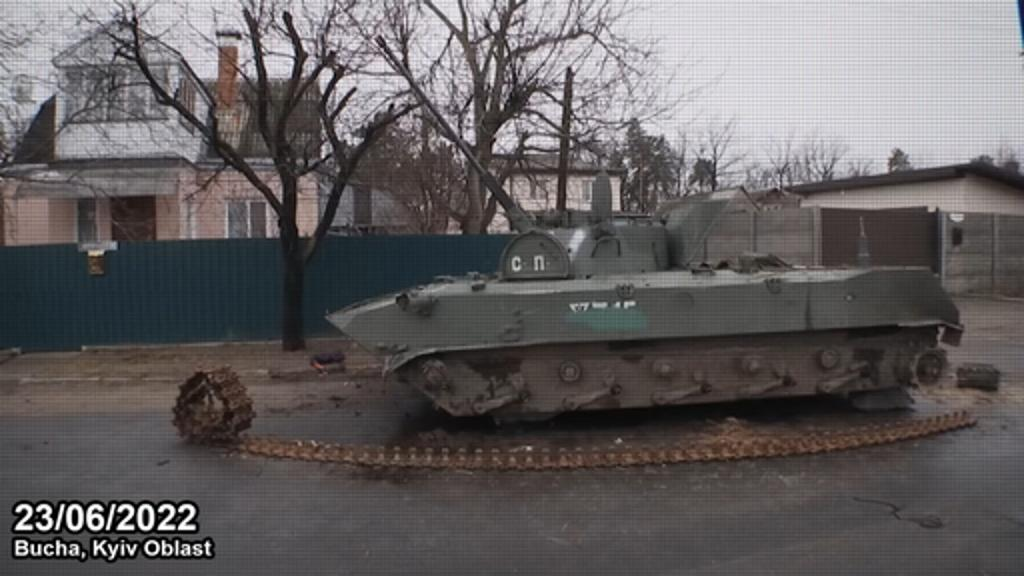APC-IFV: (312, 34, 966, 426)
